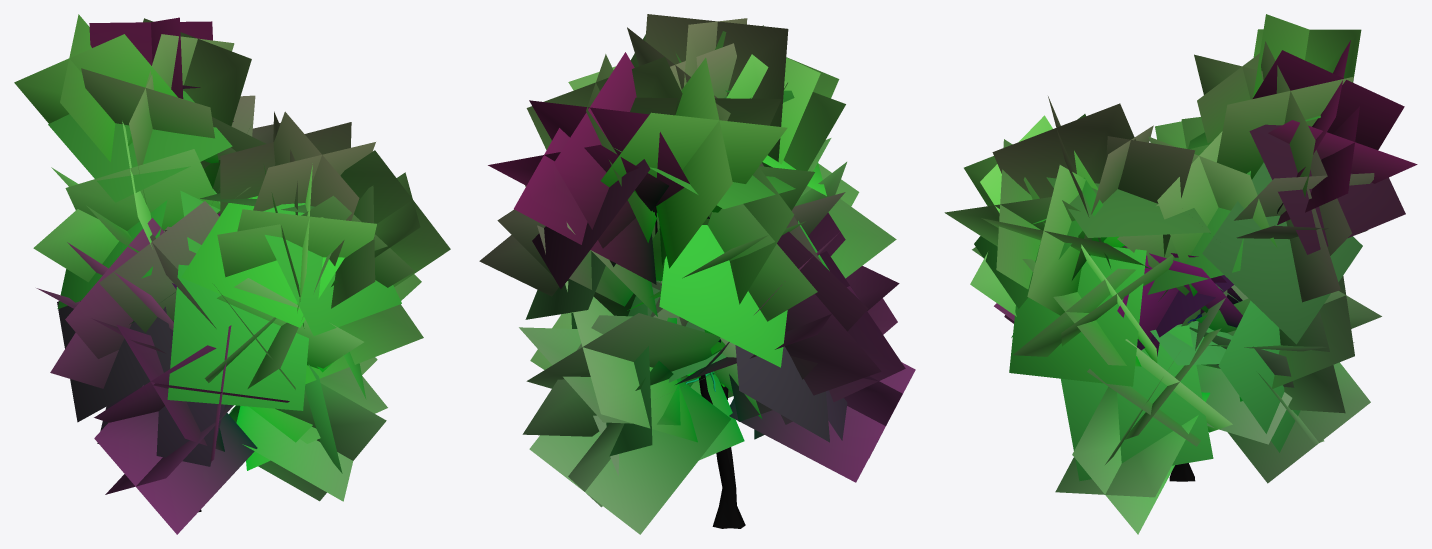
Rendered from M_Tree_1_2.fbx.
The picture shows the model from 3 angles, left to right: view 1: azimuth 30°, elevation 25°; view 2: azimuth 150°, elevation 25°; view 3: azimuth 270°, elevation 25°; orthographic projection. The views are drawn at different scales.
Visible parts, largest first — view 1: M_Tree_1_2; view 2: M_Tree_1_2; view 3: M_Tree_1_2.
Boxes of the visible parts, box(x1,y1,x2,y2) form: M_Tree_1_2: box(14, 14, 450, 534); M_Tree_1_2: box(479, 14, 915, 534); M_Tree_1_2: box(944, 14, 1417, 534).
Bounding box in the file's own units: 755 × 1011 × 952.
